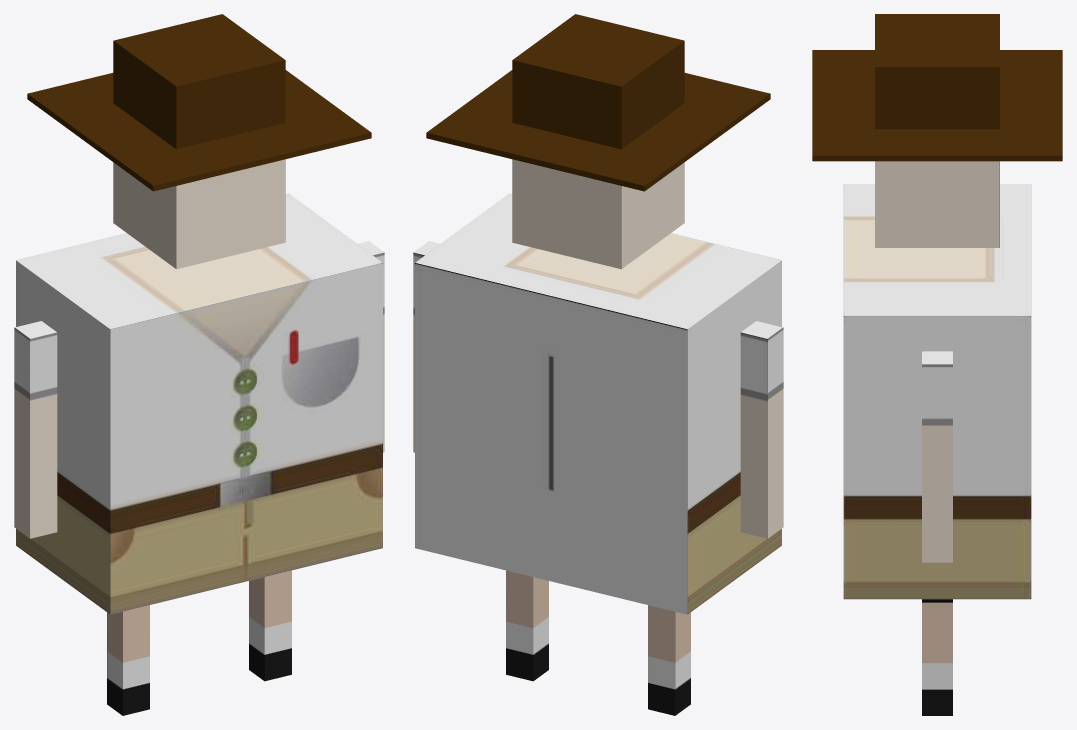
File: AncientJoe01.FBX
3 renders of one model, left to right at view 1: azimuth 30°, elevation 25°; view 2: azimuth 150°, elevation 25°; view 3: azimuth 270°, elevation 25°, orthographic.
Parts seen in each view (by area): view 1: Body, Box007, Box008, Head, RightHand, RightLeg, LeftLeg, LeftHand; view 2: Body, Box007, Box008, Head, RightHand, RightLeg, LeftLeg, LeftHand; view 3: Body, Box008, Box007, Head, LeftHand, LeftLeg.
Boxes of the visible parts, x1,y1,x2,y2 form: Body: (16, 193, 382, 614); Box007: (113, 14, 285, 149); Box008: (27, 70, 371, 191); Head: (113, 159, 285, 269); RightHand: (14, 321, 57, 538); RightLeg: (107, 605, 149, 715); LeftLeg: (249, 570, 291, 681); LeftHand: (358, 241, 384, 452); Body: (415, 193, 781, 614); Box007: (512, 14, 684, 149); Box008: (426, 70, 770, 191); Head: (512, 159, 684, 269); RightHand: (740, 321, 783, 538); RightLeg: (648, 605, 690, 715); LeftLeg: (506, 570, 548, 681); LeftHand: (413, 241, 439, 452); Body: (843, 184, 1031, 599); Box008: (812, 50, 1062, 161); Box007: (875, 14, 999, 129); Head: (875, 161, 999, 247); LeftHand: (922, 351, 952, 562); LeftLeg: (922, 599, 952, 715).
Bounding box in the file's own units: 3.25 × 2 × 5.6.
5 materials, 4 textured.
